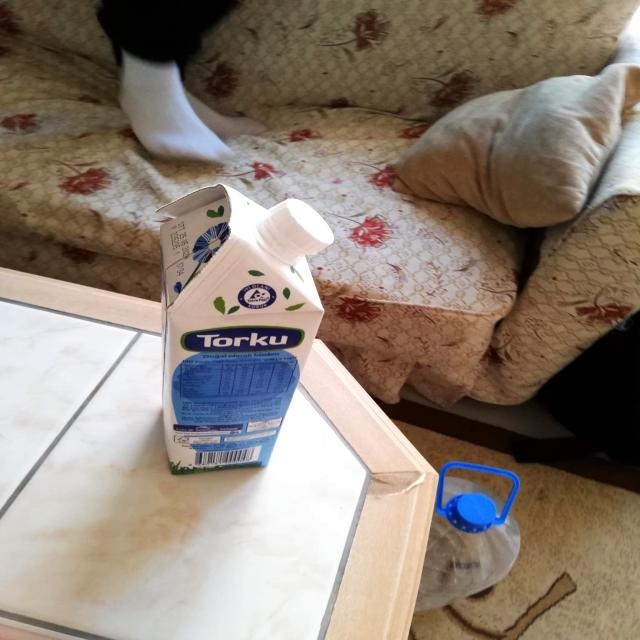milk: (140, 176, 344, 481)
